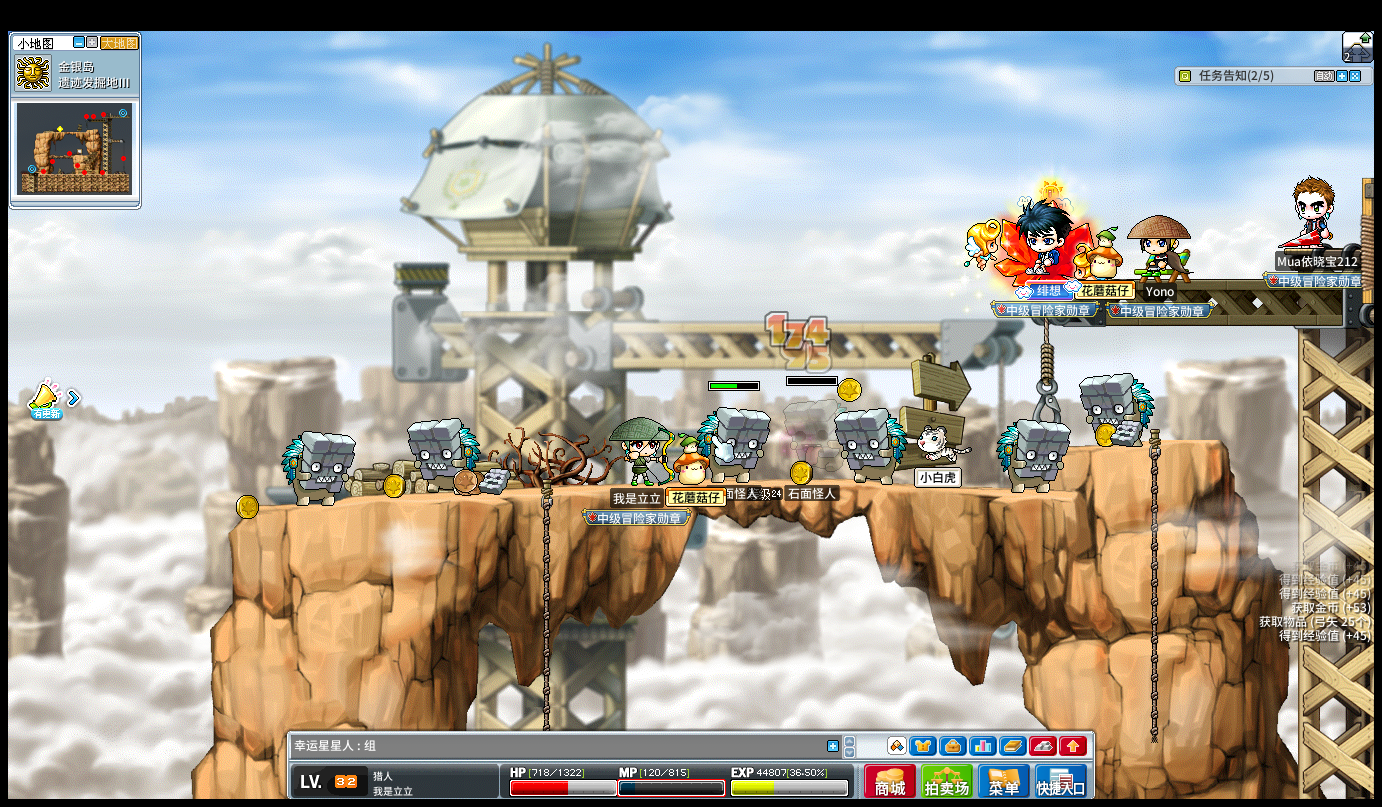floor: (225, 476, 1148, 501), (241, 476, 1127, 494), (1070, 435, 1224, 452), (1111, 435, 1225, 451)
monster: (280, 430, 355, 508), (1080, 371, 1155, 448), (997, 418, 1070, 494), (835, 407, 906, 485), (697, 406, 769, 481), (408, 418, 479, 494)
rope: (1145, 423, 1161, 748), (538, 474, 551, 725), (540, 476, 552, 683)
